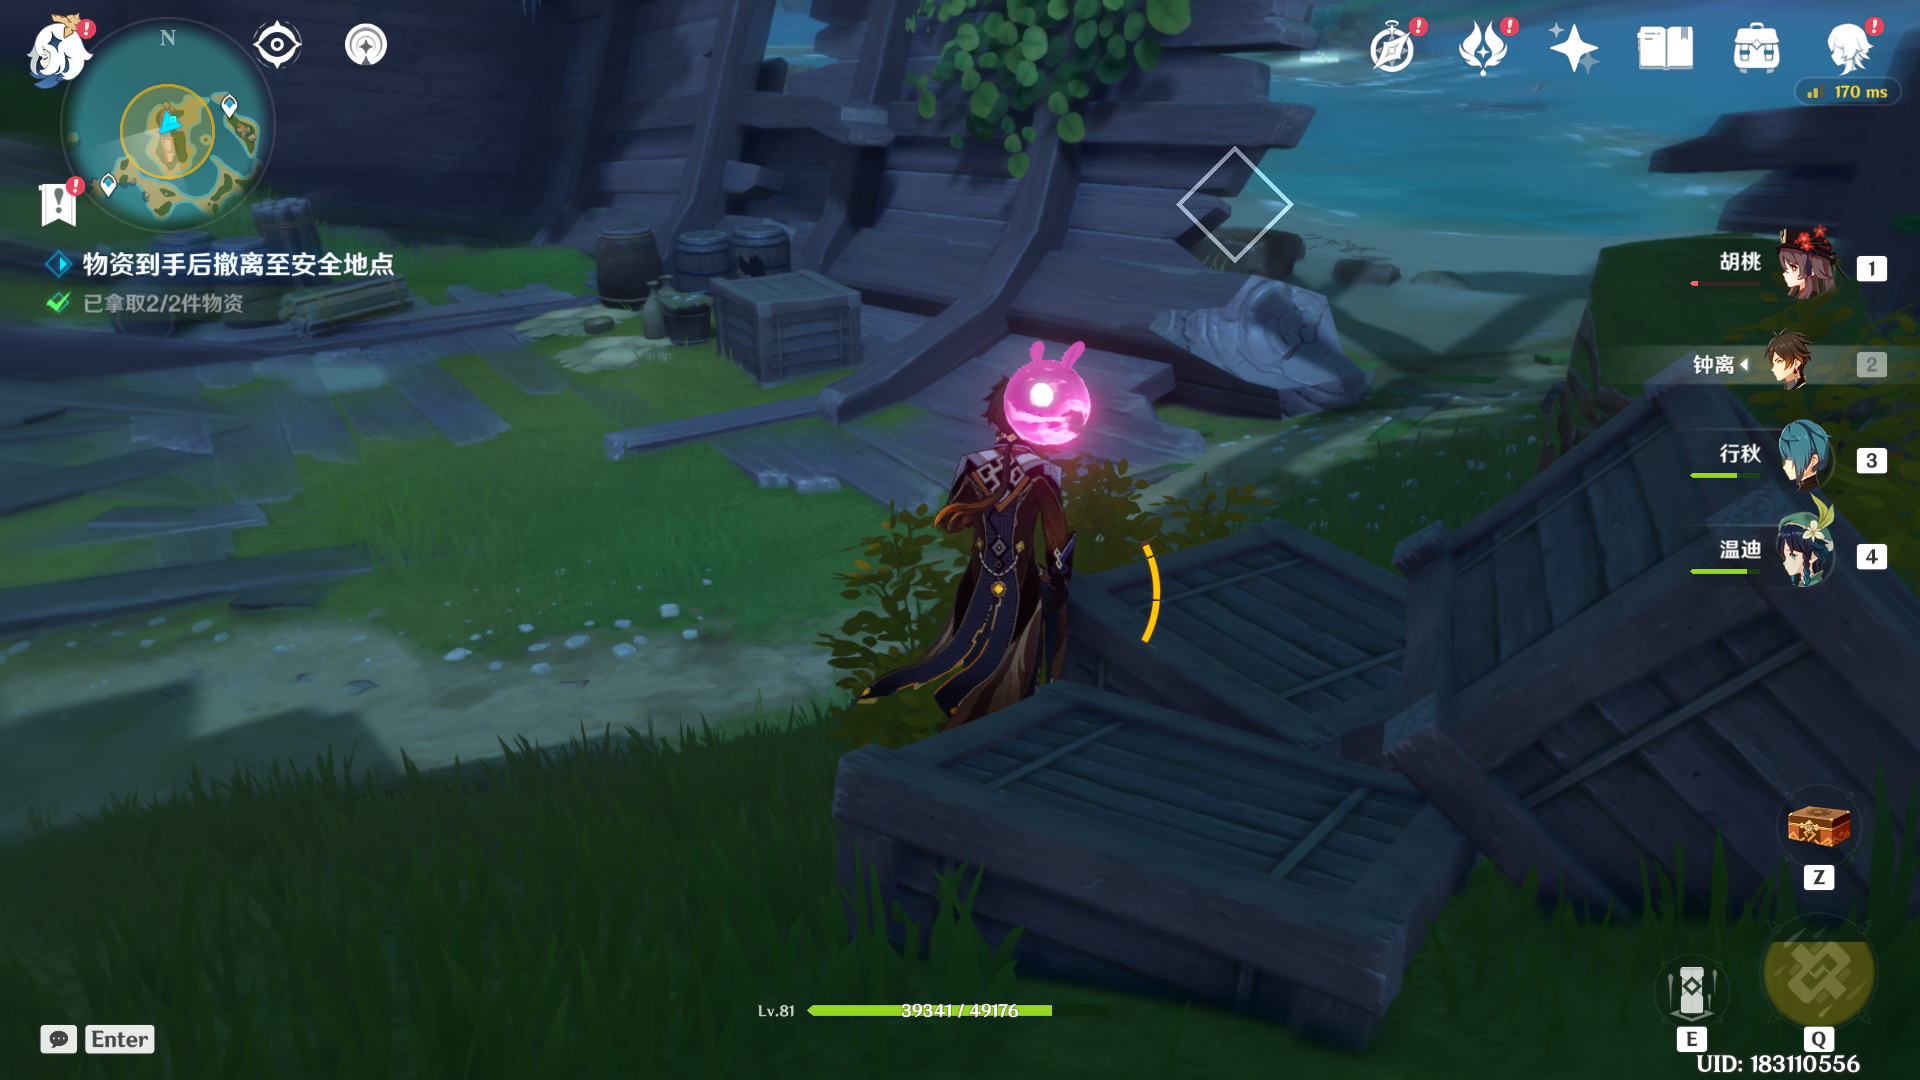character: (865, 360, 1120, 782)
